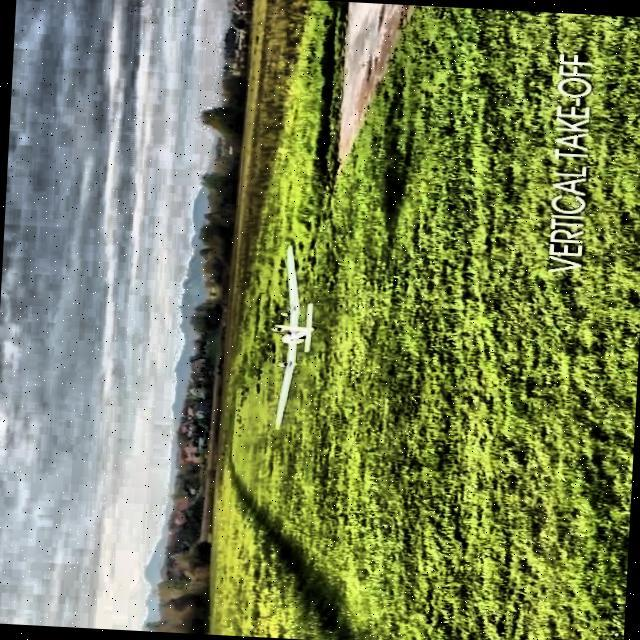iha: (289, 239, 293, 434)
